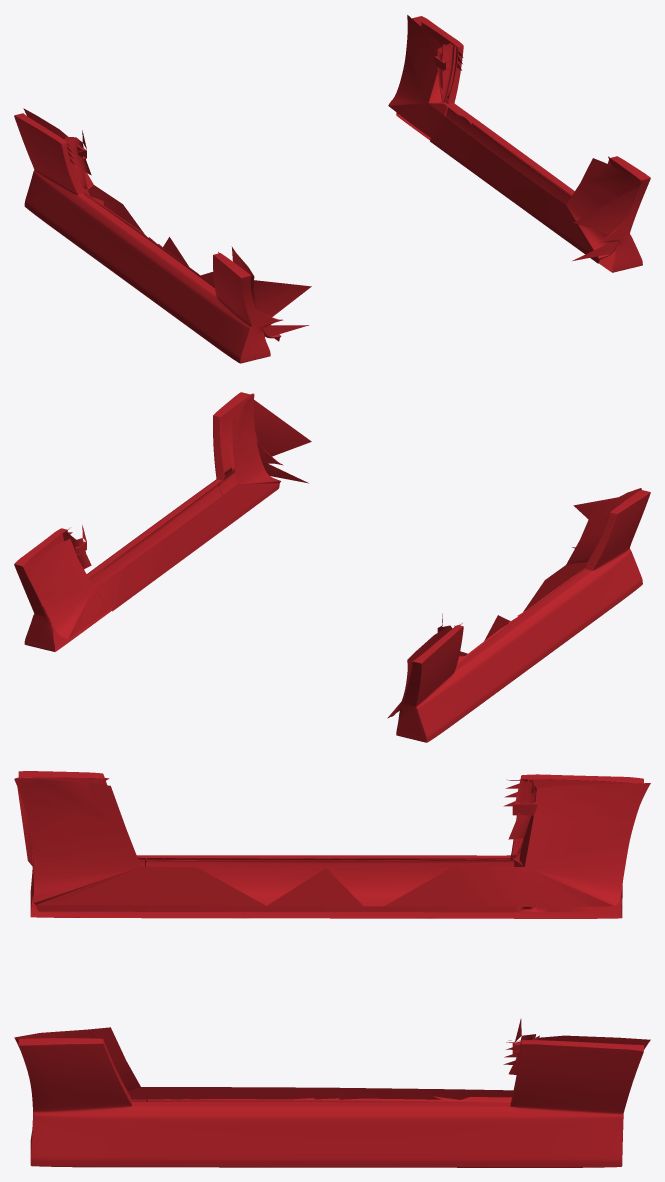
3 renders of one model, top to bottom at view 1: azimuth 30°, elevation 25°; view 2: azimuth 150°, elevation 25°; view 3: azimuth 270°, elevation 25°, orthographic. The views are drawn at different scales.
Visible parts, largest first — view 1: Miata_Aero_SideskirtsBN, Miata_BN_StockRocker; view 2: Miata_Aero_SideskirtsBN, Miata_BN_StockRocker; view 3: Miata_Aero_SideskirtsBN, Miata_BN_StockRocker.
Part boxes in pixels (x1,y1,x2,y2): Miata_Aero_SideskirtsBN: [14, 16, 650, 363]; Miata_BN_StockRocker: [23, 15, 641, 341]; Miata_Aero_SideskirtsBN: [14, 392, 650, 742]; Miata_BN_StockRocker: [23, 393, 641, 718]; Miata_Aero_SideskirtsBN: [18, 771, 643, 1167]; Miata_BN_StockRocker: [14, 777, 650, 1103].
Size of the model in its own units: 70.69 by 16.35 by 69.4.
